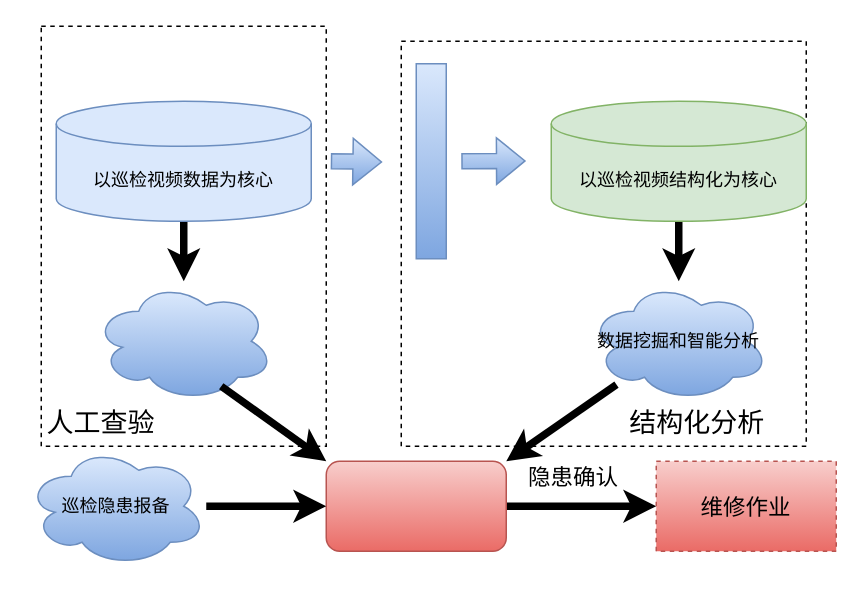
The diagram is 863 pixels wide and 593 high, and some of its shapes have lost their labels. Each missing label, with the centre of its shape:
人工海量数据分析: pixel 183 340
结构化视频算法: pixel 430 160
隐患核验: pixel 415 505
